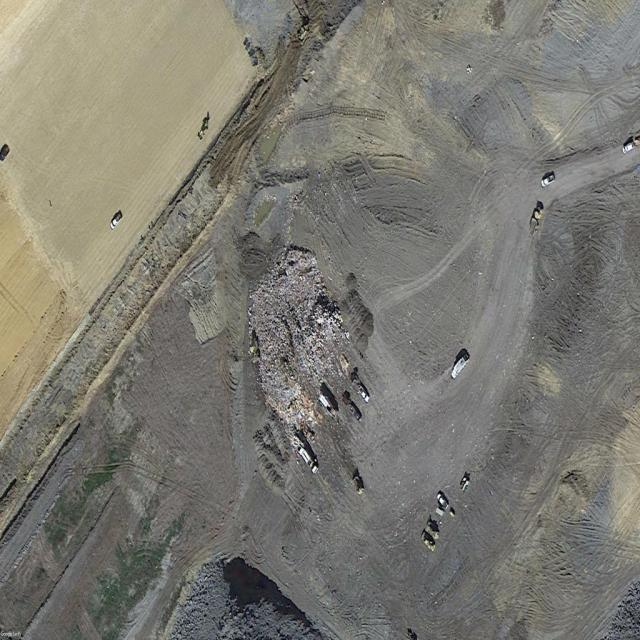dump_site: (229, 234, 369, 455)
